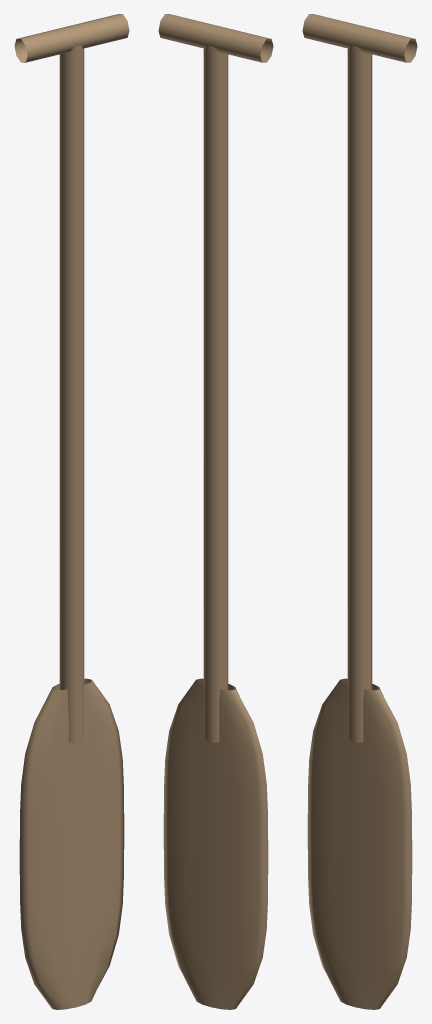
File: Paddle.glb
3 views of the same model, side by side, from view 1: azimuth 30°, elevation 25°; view 2: azimuth 150°, elevation 25°; view 3: azimuth 330°, elevation 25° (orthographic).
Parts seen in each view (by area): view 1: Paddle.001; view 2: Paddle.001; view 3: Paddle.001.
Part boxes in pixels (x1,y1,x2,y2): Paddle.001: [14, 14, 129, 1009]; Paddle.001: [158, 14, 273, 1009]; Paddle.001: [302, 14, 417, 1009].
Size of the model in its own units: 0.164 by 1.47 by 0.036.
